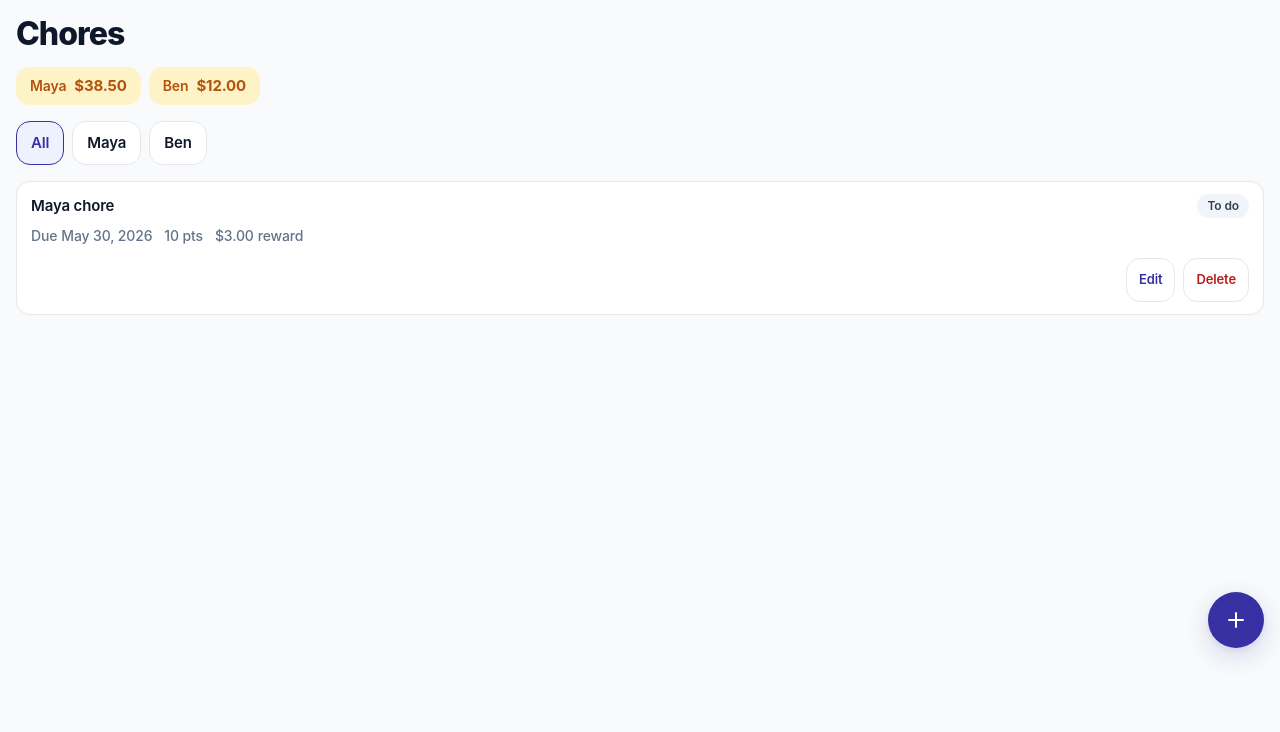
ChoresParentScreen — member filter tabs (dynamic; All + per-member) › a member filter with NO chores shows a per-filter empty state
This screenshot has width=1280, height=732.
Click the button "Ben" at (178, 143), box [149, 121, 207, 165]
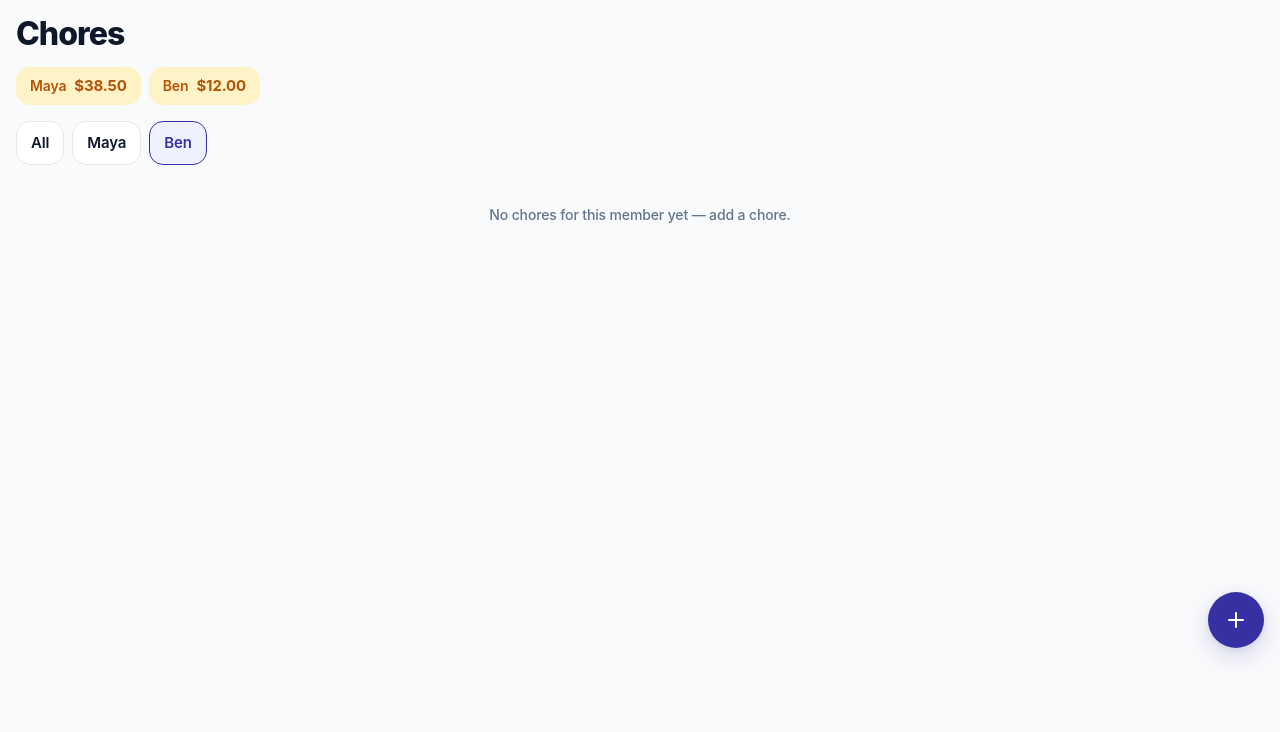
Expected: the text "No chores for this member yet — add a chore." is shown, [489, 206, 791, 223]
Expected: the text "Maya chore" is gone
